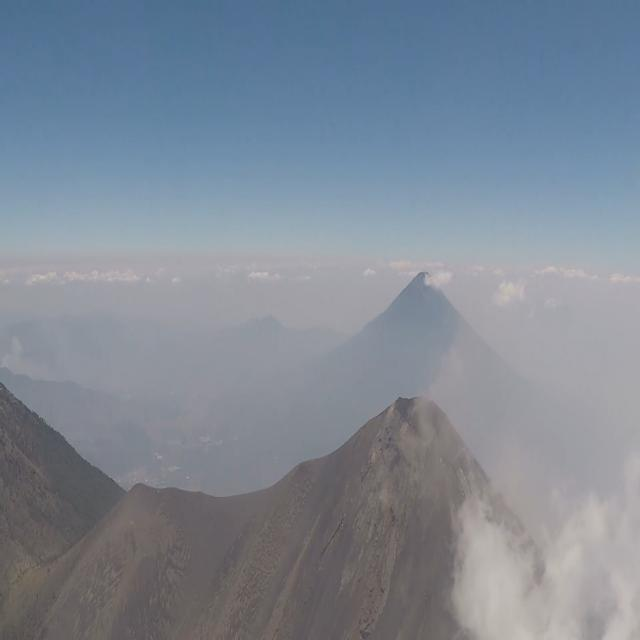Summit: (276, 380, 558, 612)
